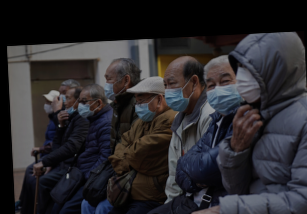mask_weared_incorrect: (63, 94, 76, 116)
with_mask: (205, 71, 241, 117), (235, 62, 262, 105), (163, 74, 191, 115), (134, 93, 156, 124), (102, 72, 120, 102), (76, 94, 96, 120), (58, 88, 68, 108), (42, 99, 54, 115)
